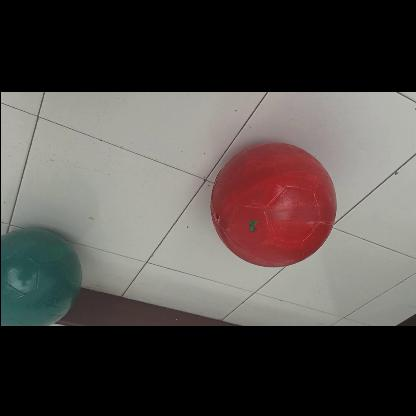red_ball: (211, 138, 338, 266)
